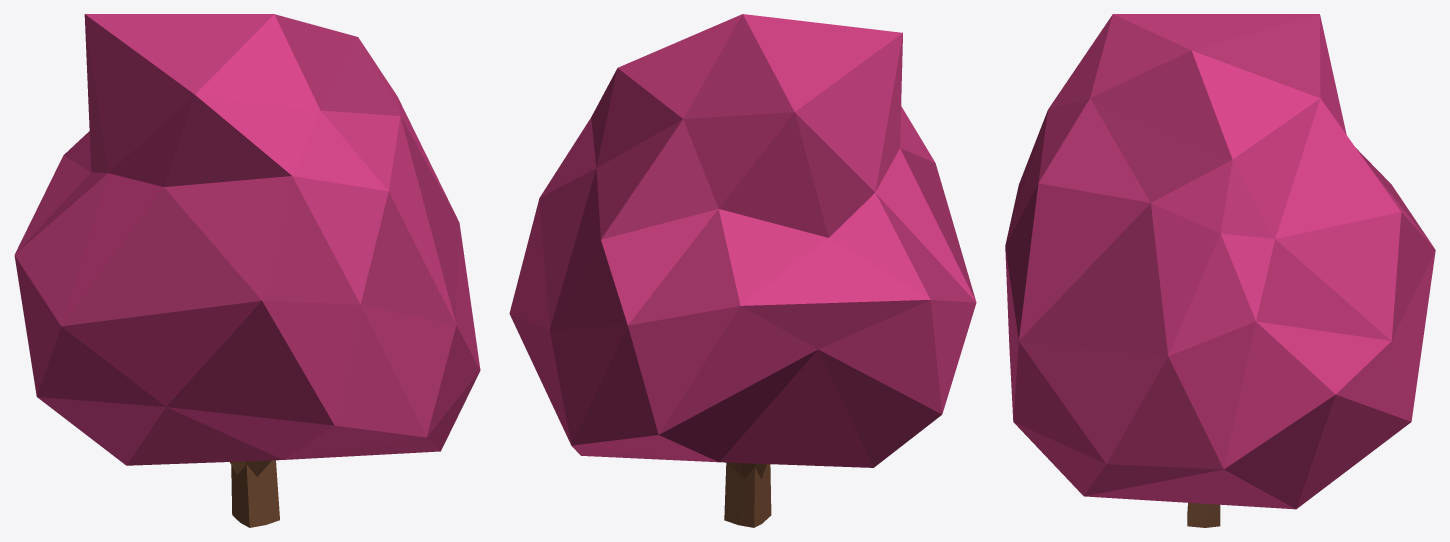
The model's file is Tree_10_Pink.fbx.
3 views of the same model, side by side, from view 1: azimuth 30°, elevation 25°; view 2: azimuth 150°, elevation 25°; view 3: azimuth 270°, elevation 25° (orthographic). The views are drawn at different scales.
Parts seen in each view (by area): view 1: Tree_10_Pink_Part_1, Tree_10_Pink_Part_2; view 2: Tree_10_Pink_Part_1, Tree_10_Pink_Part_2; view 3: Tree_10_Pink_Part_1, Tree_10_Pink_Part_2.
Boxes of the visible parts, x1=… form: Tree_10_Pink_Part_1: x1=14, y1=14, x2=480, y2=465; Tree_10_Pink_Part_2: x1=230, y1=460, x2=279, y2=527; Tree_10_Pink_Part_1: x1=509, y1=14, x2=976, y2=467; Tree_10_Pink_Part_2: x1=724, y1=462, x2=771, y2=527; Tree_10_Pink_Part_1: x1=1005, y1=14, x2=1435, y2=509; Tree_10_Pink_Part_2: x1=1187, y1=502, x2=1220, y2=527.
Bounding box in the file's own units: 682 × 802 × 656.
